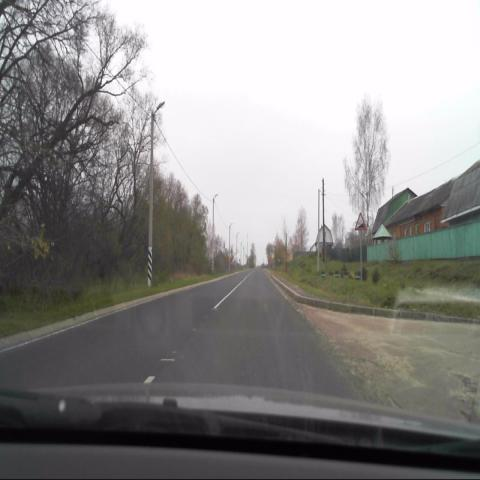1_14: (354, 213, 367, 232)
